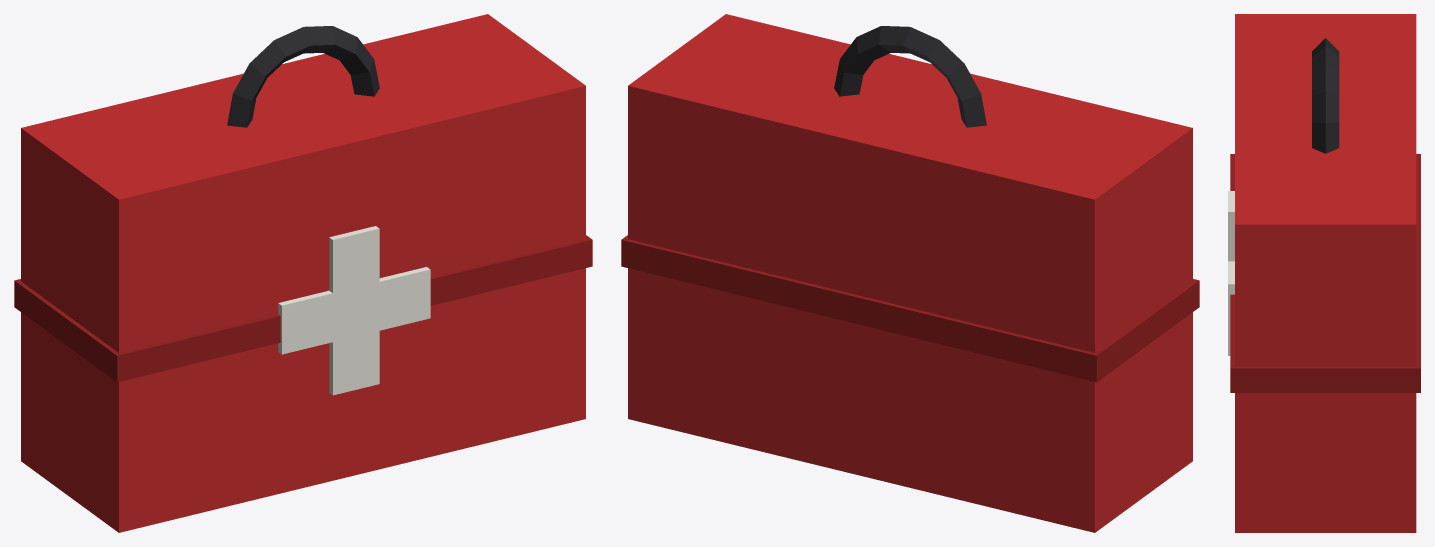
Rendered from first-aid.glb.
The picture shows the model from 3 angles, left to right: view 1: azimuth 30°, elevation 25°; view 2: azimuth 150°, elevation 25°; view 3: azimuth 270°, elevation 25°; orthographic projection. The views are drawn at different scales.
Parts seen in each view (by area): view 1: first_aid; view 2: first_aid; view 3: first_aid.
Part boxes in pixels (x1,y1,x2,y2): first_aid: (14, 14, 592, 532); first_aid: (621, 14, 1199, 532); first_aid: (1228, 14, 1420, 532).
Bounding box in the file's own units: 0.224 × 0.186 × 0.085.
